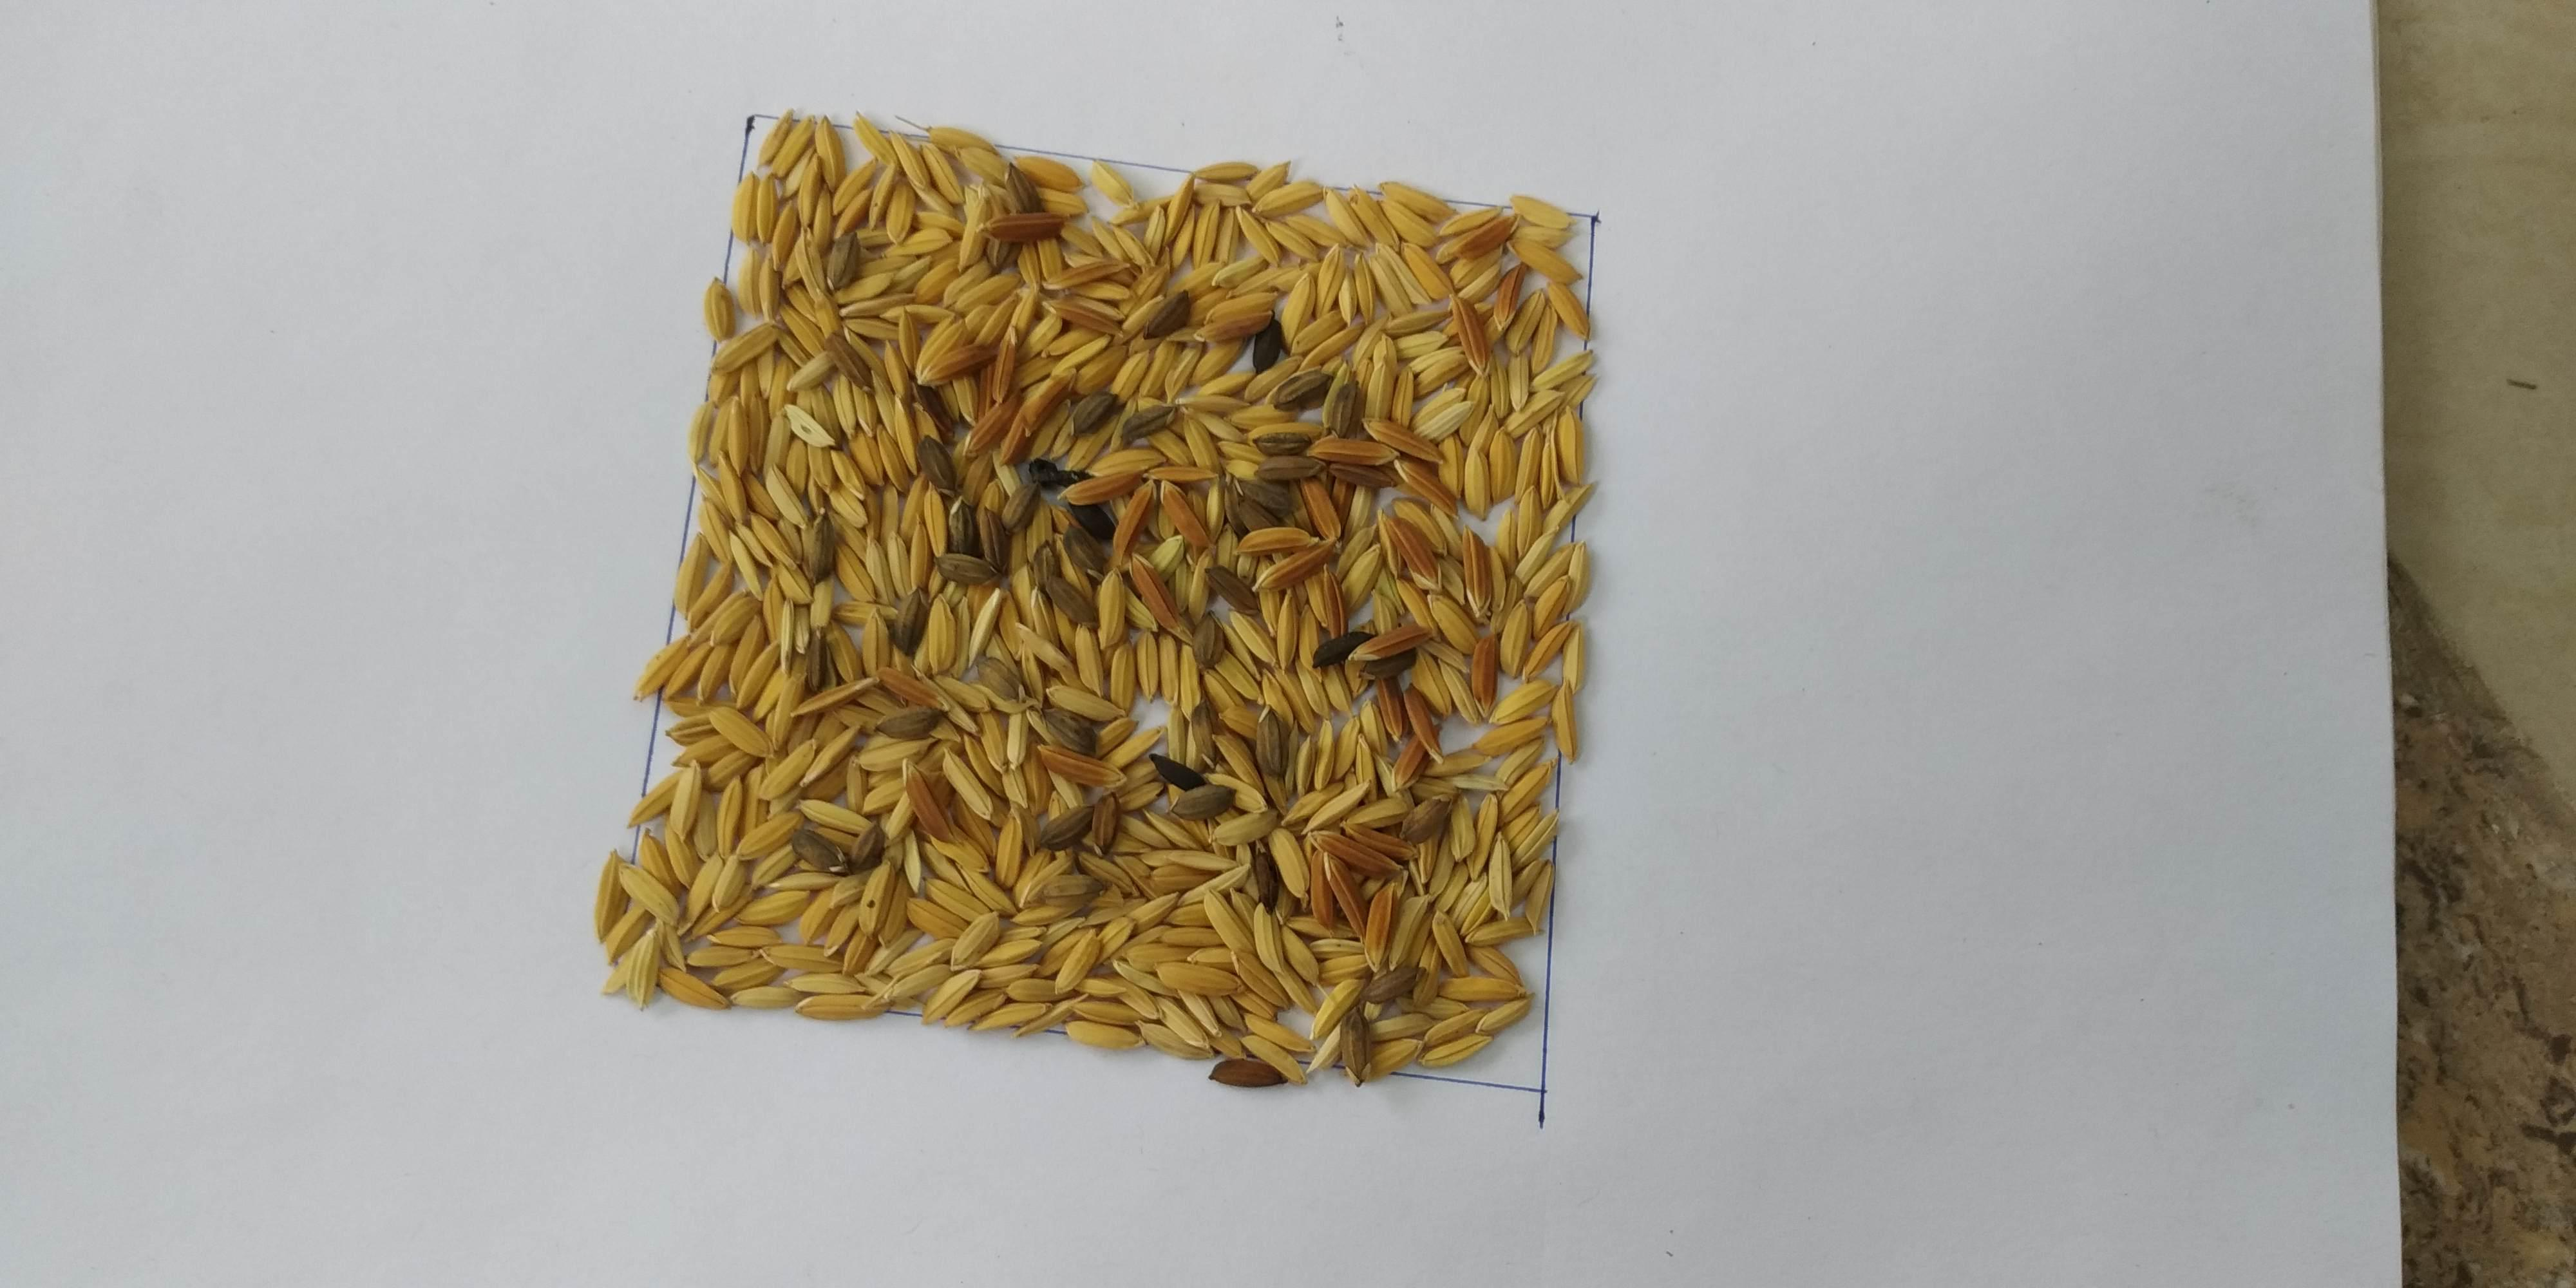impure: (749, 202, 1523, 997)
